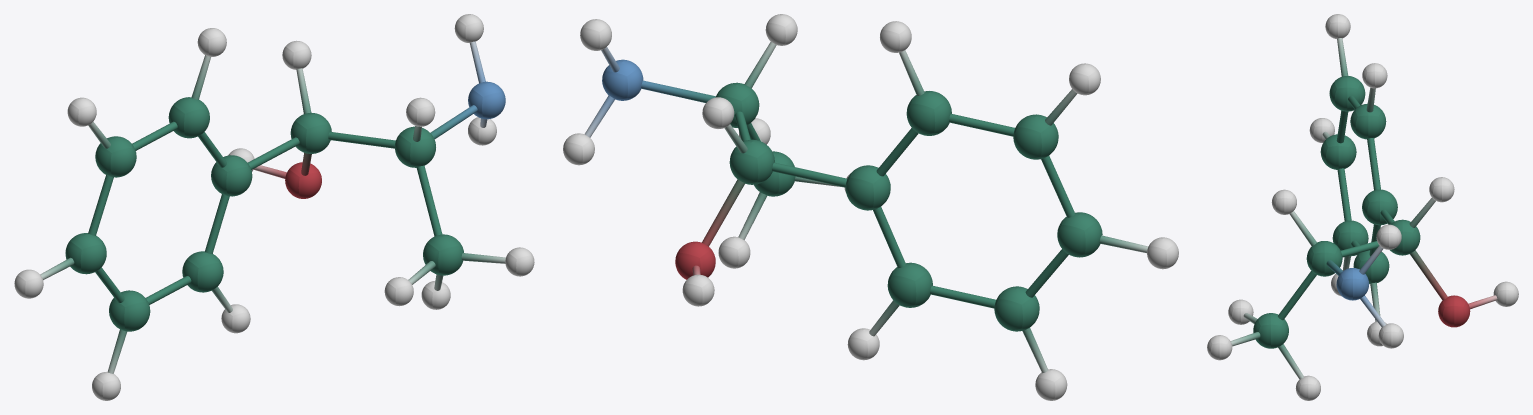
File: Norephedrine.fbx
The picture shows the model from 3 angles, left to right: view 1: azimuth 30°, elevation 25°; view 2: azimuth 150°, elevation 25°; view 3: azimuth 270°, elevation 25°; orthographic projection. The views are drawn at different scales.
Visible parts, largest first — view 1: curMeshHyperballExportedMesh; view 2: curMeshHyperballExportedMesh; view 3: curMeshHyperballExportedMesh.
Boxes of the visible parts, left/top/right/bottom form: curMeshHyperballExportedMesh: left=14, top=14, right=534, bottom=400; curMeshHyperballExportedMesh: left=563, top=14, right=1178, bottom=400; curMeshHyperballExportedMesh: left=1207, top=14, right=1518, bottom=400.
Size of the model in its own units: 8.19 by 4.93 by 4.92.
